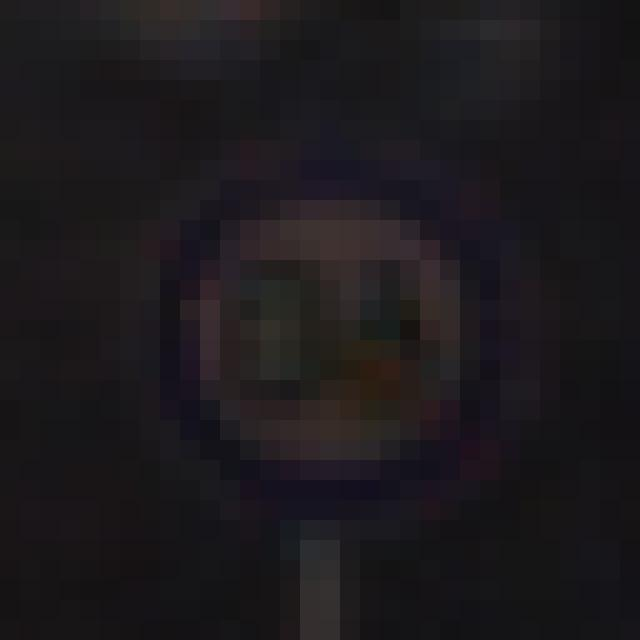SPEED-LIMIT-60: (112, 138, 526, 533)
